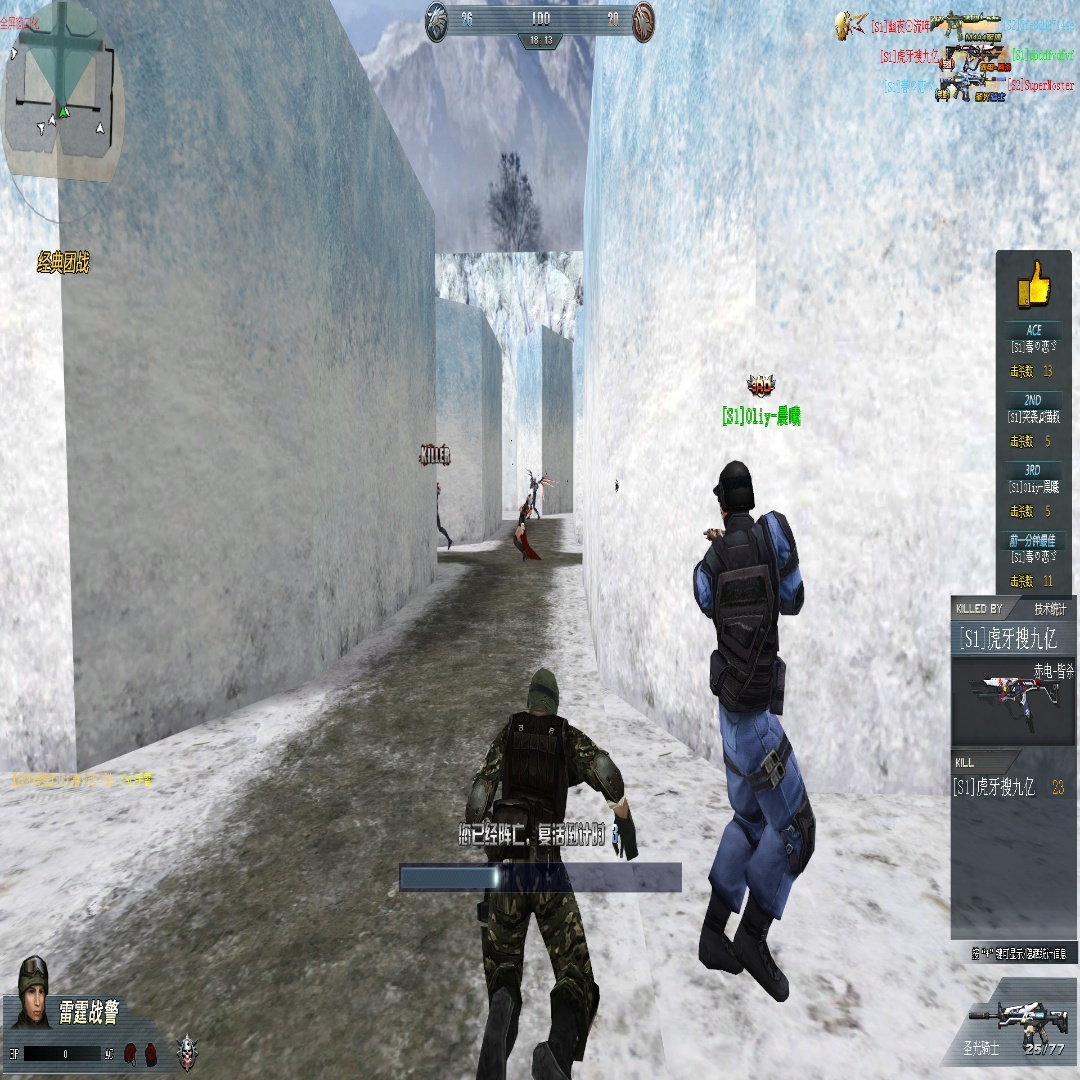head: (713, 458, 757, 530)
